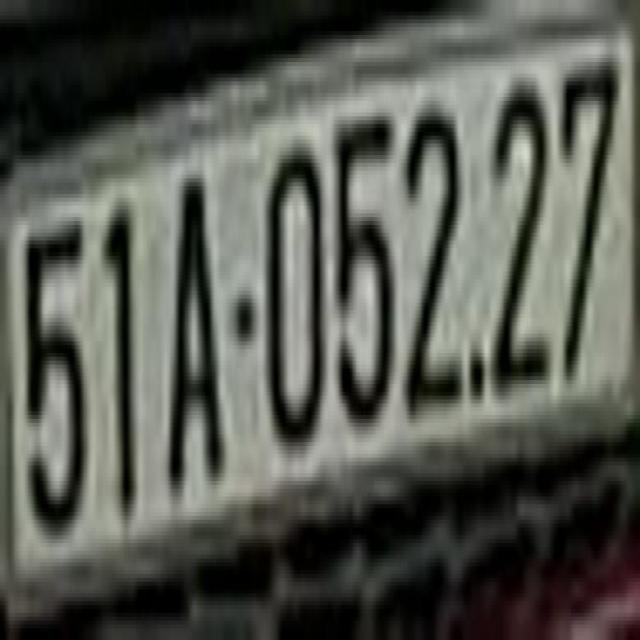0: (262, 117, 326, 470)
1: (102, 183, 136, 532)
2: (491, 66, 558, 392), (399, 109, 464, 422)
5: (332, 89, 393, 458), (26, 209, 88, 543)
7: (560, 58, 622, 388)
A: (167, 187, 224, 500)
